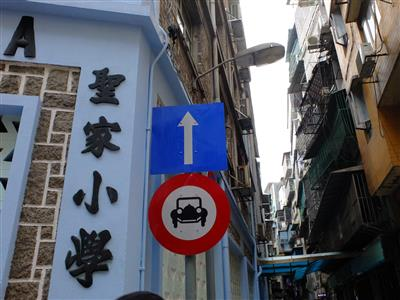noMotorVehicles: (146, 170, 233, 256)
oneway: (146, 98, 231, 176)
